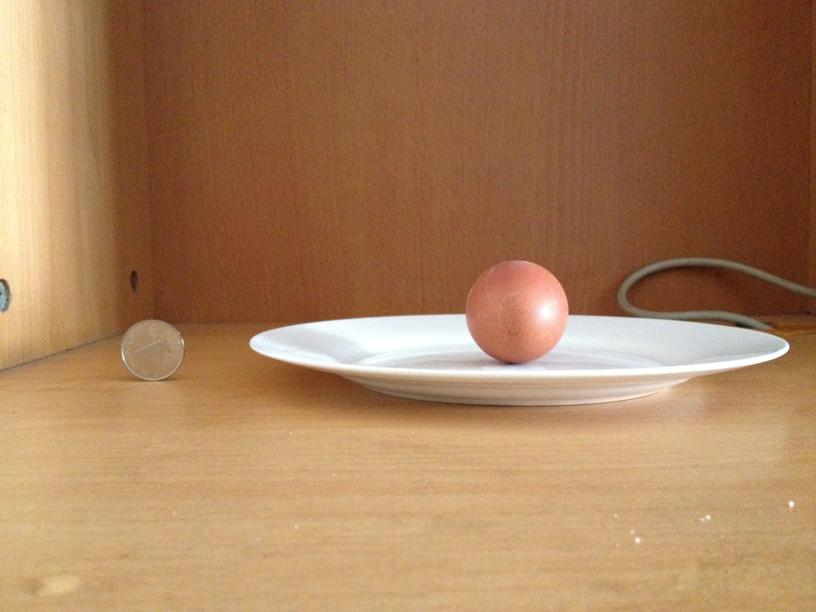coin: (116, 315, 187, 379)
egg: (461, 260, 568, 361)
